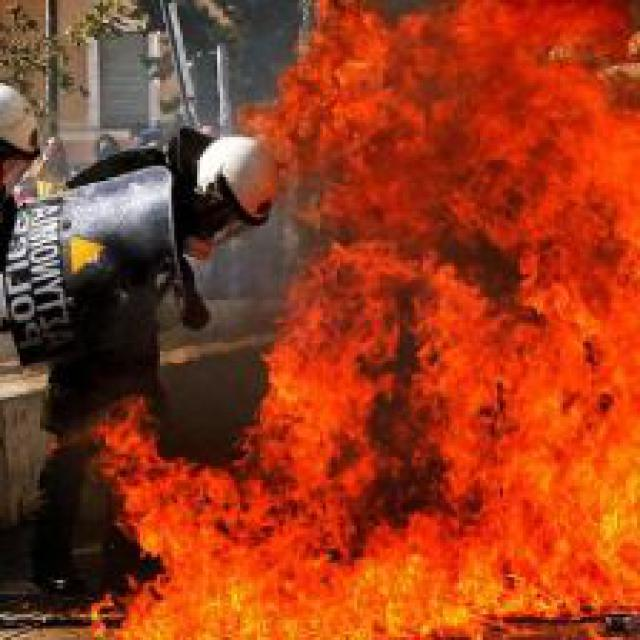fire: (252, 12, 637, 637)
